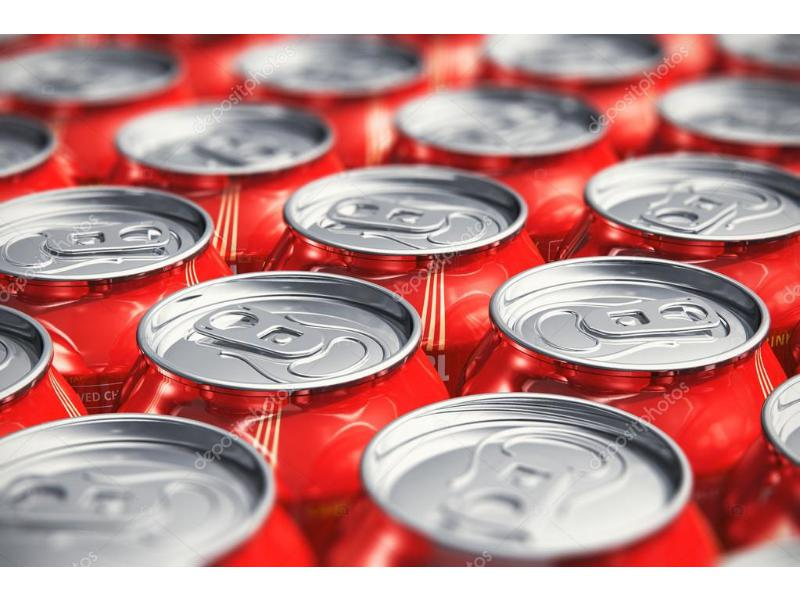can: (350, 387, 708, 555), (1, 407, 295, 566), (130, 271, 435, 395), (488, 256, 778, 372), (275, 164, 535, 260), (0, 183, 218, 282), (583, 147, 799, 246), (391, 82, 628, 172), (115, 102, 344, 191)
